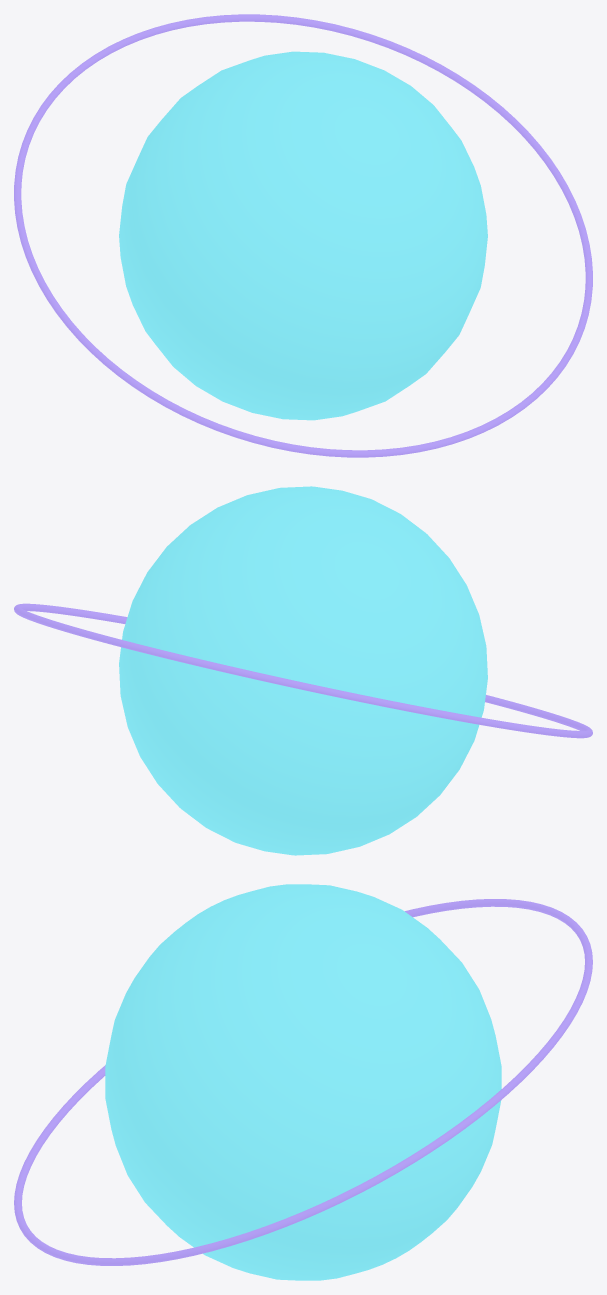
File: orb.glb
The picture shows the model from 3 angles, top to bottom: view 1: azimuth 30°, elevation 25°; view 2: azimuth 150°, elevation 25°; view 3: azimuth 270°, elevation 25°; orthographic projection. The views are drawn at different scales.
Visible parts, largest first — view 1: core, halo_mesh; view 2: core, halo_mesh; view 3: core, halo_mesh.
Boxes of the visible parts, x1,y1,x2,y2 form: core: (119, 51, 487, 420); halo_mesh: (14, 14, 592, 457); core: (119, 486, 487, 855); halo_mesh: (14, 603, 592, 738); core: (105, 884, 501, 1280); halo_mesh: (14, 899, 592, 1265).
Size of the model in its own units: 2 by 1.24 by 1.81.
